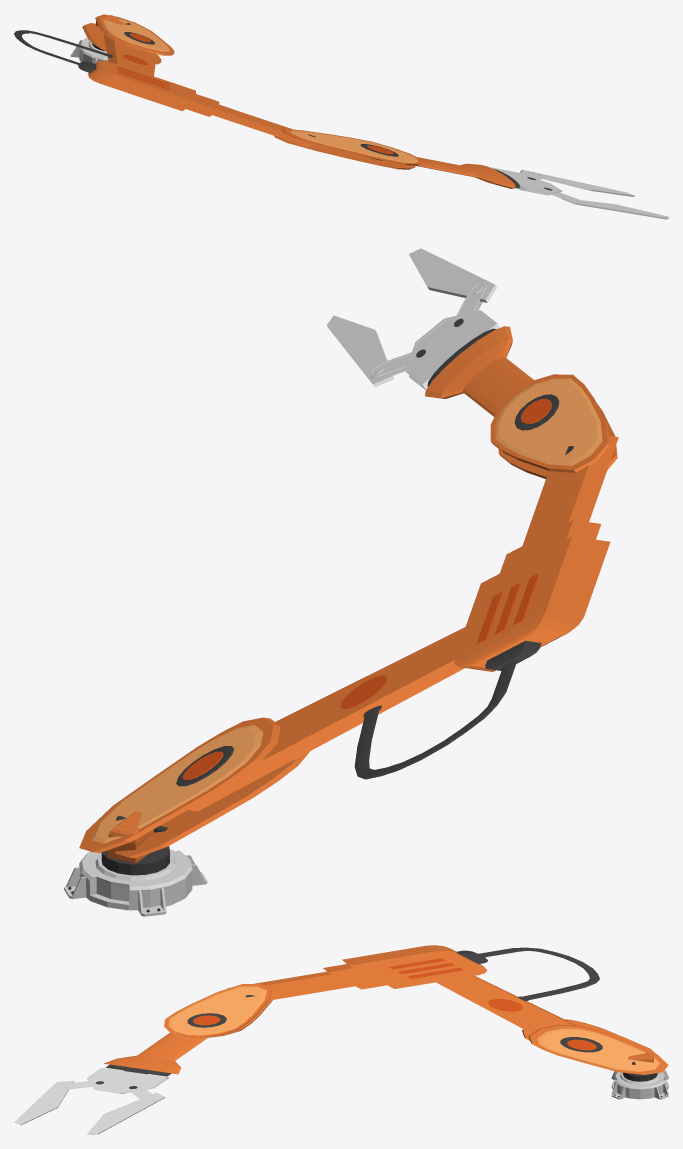
File: gea.fbx
The picture shows the model from 3 angles, top to bottom: view 1: azimuth 30°, elevation 25°; view 2: azimuth 150°, elevation 25°; view 3: azimuth 270°, elevation 25°; orthographic projection. The views are drawn at different scales.
Visible parts, largest first — view 1: Cube.003, Cylinder.007, Cylinder.002, Cylinder.008, Cube.008, Cube.005, Cube.006, Cylinder; view 2: Cube.003, Cylinder.002, Cylinder.007, Cylinder, Cylinder.008, Cube.005, Cube.008, Cube.006, Cylinder.001; view 3: Cube.003, Cylinder.002, Cylinder.007, Cylinder.008, Cube.005, Cylinder, Cube.006, Cube.008, Cylinder.001.
Boxes of the visible parts, <box> form: Cube.003: <box>14,30,315,147</box>; Cylinder.007: <box>274,129,423,169</box>; Cylinder.002: <box>82,14,174,64</box>; Cylinder.008: <box>414,157,520,188</box>; Cube.008: <box>546,192,668,219</box>; Cube.005: <box>490,167,562,195</box>; Cube.006: <box>520,170,634,196</box>; Cylinder: <box>70,37,108,63</box>; Cube.003: <box>188,436,618,811</box>; Cylinder.002: <box>79,717,309,858</box>; Cylinder.007: <box>490,374,617,478</box>; Cylinder: <box>64,849,207,916</box>; Cylinder.008: <box>425,326,533,416</box>; Cube.005: <box>405,310,500,389</box>; Cube.008: <box>409,248,496,315</box>; Cube.006: <box>326,315,411,386</box>; Cylinder.001: <box>101,811,169,875</box>; Cube.003: <box>227,945,599,1033</box>; Cylinder.002: <box>522,1019,668,1074</box>; Cylinder.007: <box>164,984,272,1037</box>; Cylinder.008: <box>104,1033,209,1076</box>; Cube.005: <box>86,1068,168,1093</box>; Cylinder: <box>611,1070,668,1099</box>; Cube.006: <box>87,1089,164,1134</box>; Cube.008: <box>14,1080,91,1124</box>; Cylinder.001: <box>623,1052,657,1081</box>.
Bounding box in the file's own units: 1415 × 385 × 2654.
